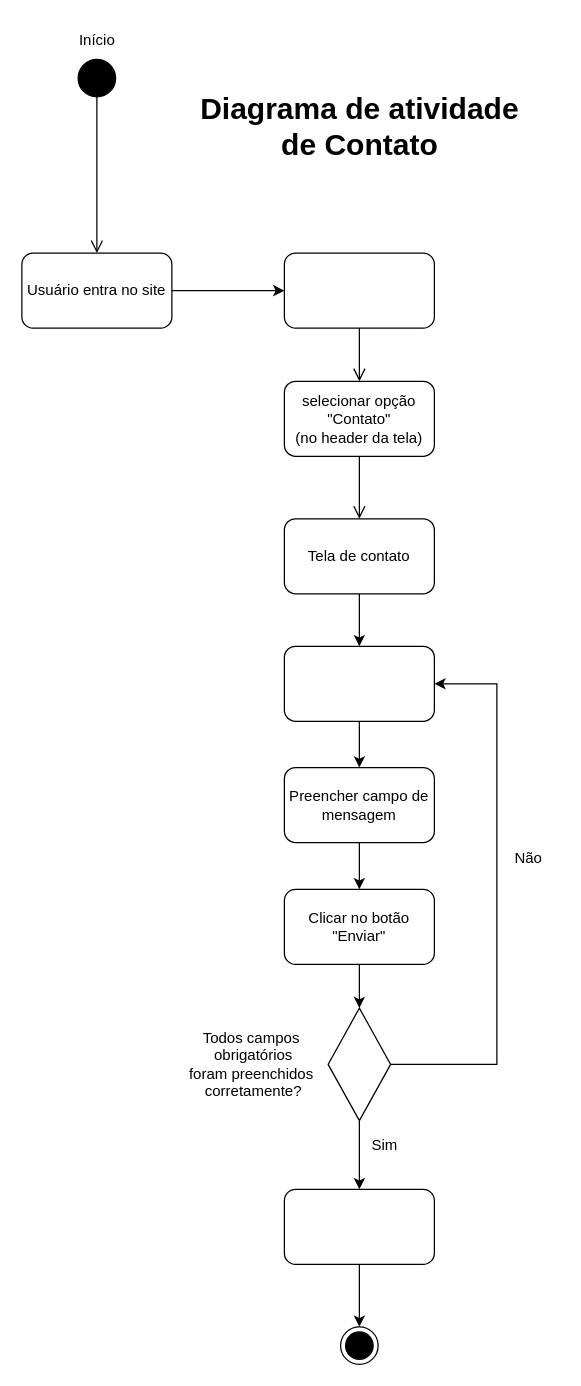
The diagram is 581 pixels wide and 1386 high, and some of its shapes have lost their labels. The shapes that lost their labels are listed below. From the top down, each one's box as (x1, y1, x2, y2) in pixels, then its label:
(283, 252, 434, 328): Tela Inicial
(283, 645, 434, 721): Preencher formulários/campos de identificação
(283, 1188, 434, 1264): Sistema envia mensagem para o email do Administrador
